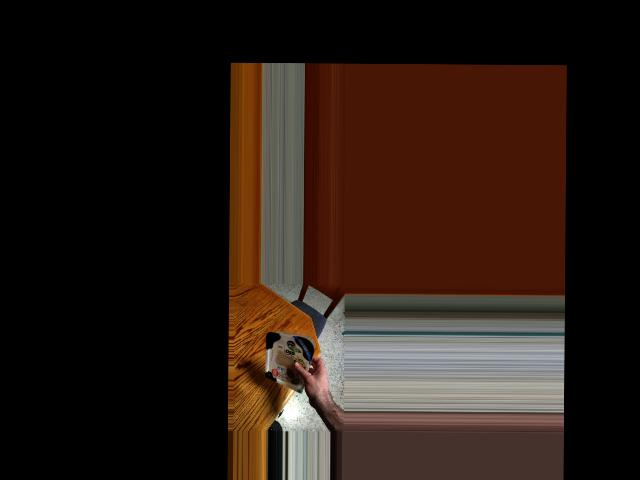cheese: (270, 330, 306, 388)
